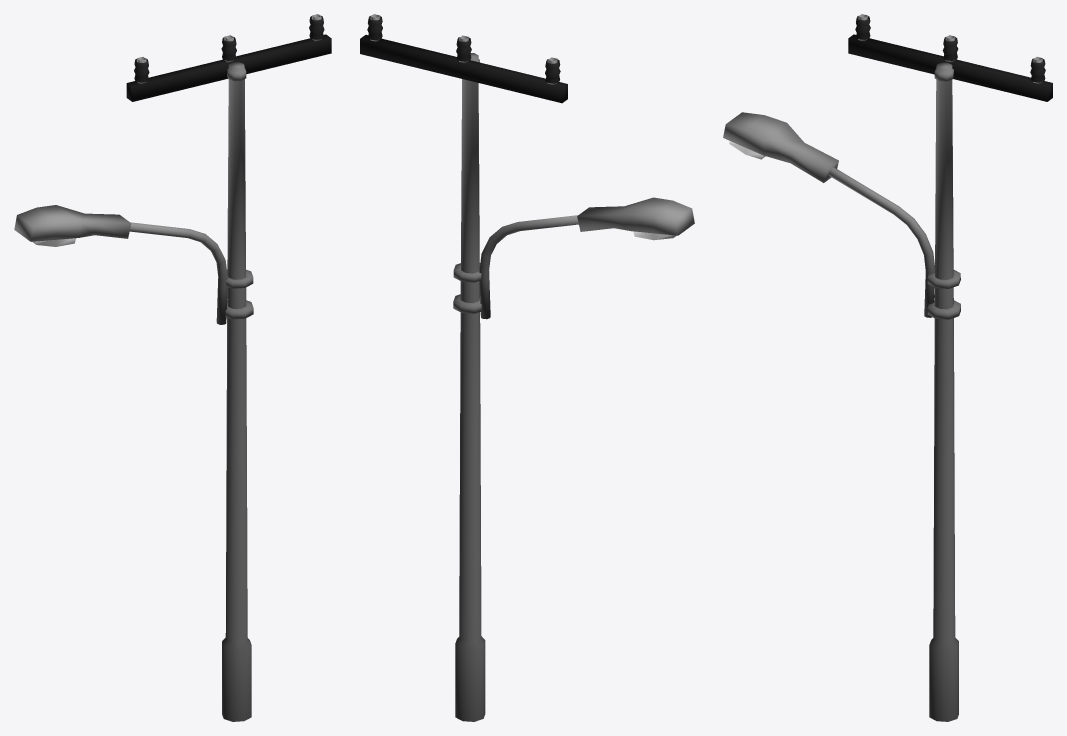
Rendered from TiangListrik.fbx.
3 renders of one model, left to right at view 1: azimuth 30°, elevation 25°; view 2: azimuth 150°, elevation 25°; view 3: azimuth 330°, elevation 25°, orthographic.
Visible parts, largest first — view 1: LampuJalan+TiangListrik_LOD0; view 2: LampuJalan+TiangListrik_LOD0; view 3: LampuJalan+TiangListrik_LOD0.
Part boxes in pixels (x1,y1,x2,y2): LampuJalan+TiangListrik_LOD0: [14, 14, 331, 721]; LampuJalan+TiangListrik_LOD0: [360, 14, 694, 721]; LampuJalan+TiangListrik_LOD0: [723, 14, 1052, 721].
Size of what is drawn, in the model's own units: 904 by 1862 by 116.
